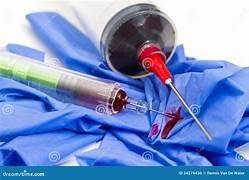Iv_Bottle: (72, 0, 175, 77)
Syringe: (74, 0, 211, 139), (0, 51, 174, 117)
